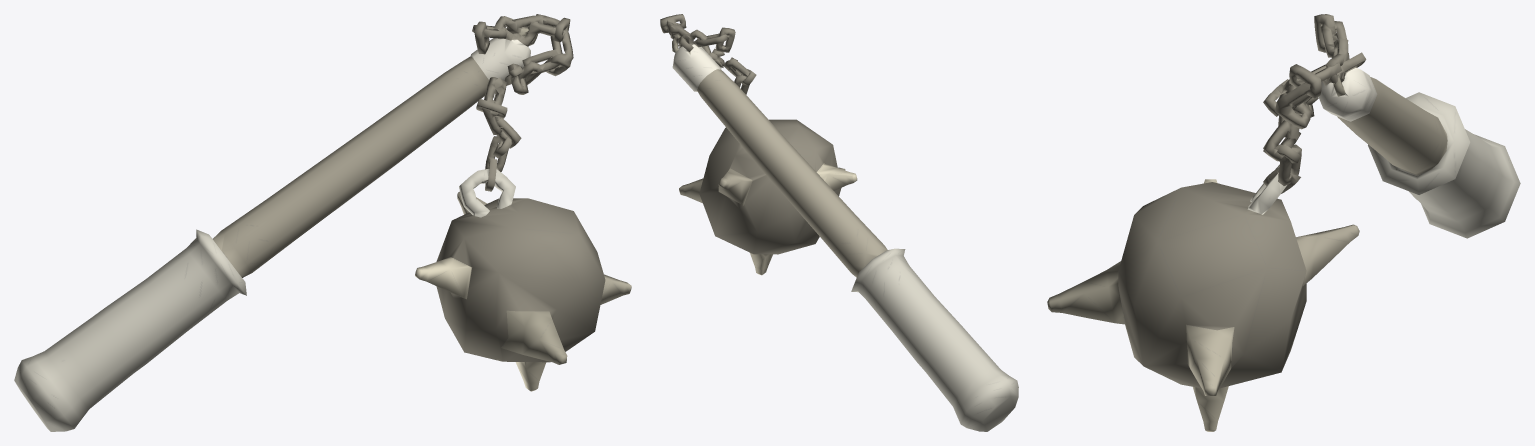
The model's file is flail.fbx.
The picture shows the model from 3 angles, left to right: view 1: azimuth 30°, elevation 25°; view 2: azimuth 150°, elevation 25°; view 3: azimuth 270°, elevation 25°; orthographic projection. The views are drawn at different scales.
Visible parts, largest first — view 1: unamed; view 2: unamed; view 3: unamed.
Part boxes in pixels (x1=…): unamed: x1=14, y1=14, x2=631, y2=431; unamed: x1=660, y1=14, x2=1018, y2=431; unamed: x1=1047, y1=14, x2=1520, y2=431.
Bounding box in the file's own units: 1.56 × 1.04 × 1.02.
Materials: 1 (1 with a texture image).
